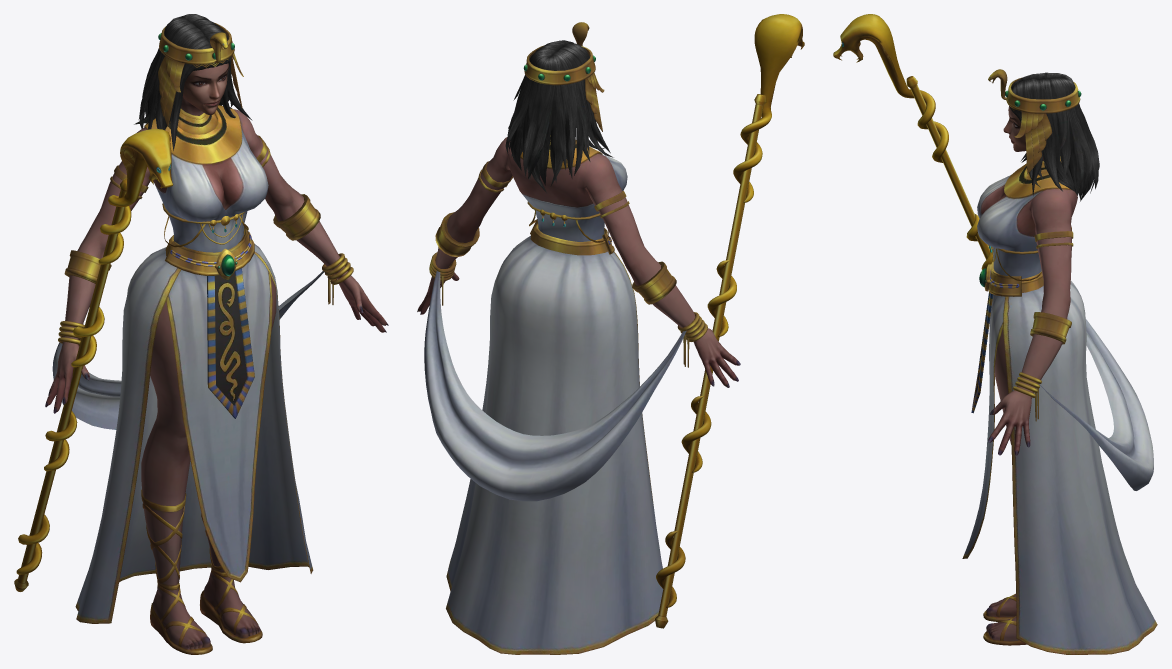
Rendered from zarah_desertqueen.glb.
3 views of the same model, side by side, from view 1: azimuth 30°, elevation 25°; view 2: azimuth 150°, elevation 25°; view 3: azimuth 270°, elevation 25° (orthographic). The views are drawn at different scales.
Visible parts, largest first — view 1: Desert_Queen_Zarah_body, Desert_Queen_Zarah_weapon; view 2: Desert_Queen_Zarah_body, Desert_Queen_Zarah_weapon; view 3: Desert_Queen_Zarah_body, Desert_Queen_Zarah_weapon.
Part boxes in pixels (bbox=[...]): Desert_Queen_Zarah_body: bbox=[45, 14, 388, 654]; Desert_Queen_Zarah_weapon: bbox=[14, 129, 173, 591]; Desert_Queen_Zarah_body: bbox=[417, 22, 740, 654]; Desert_Queen_Zarah_weapon: bbox=[655, 14, 804, 628]; Desert_Queen_Zarah_body: bbox=[962, 69, 1157, 654]; Desert_Queen_Zarah_weapon: bbox=[833, 14, 993, 269].
Size of the model in its own units: 1.04 by 1.82 by 0.9613.
Materials: 2 (2 with a texture image).
